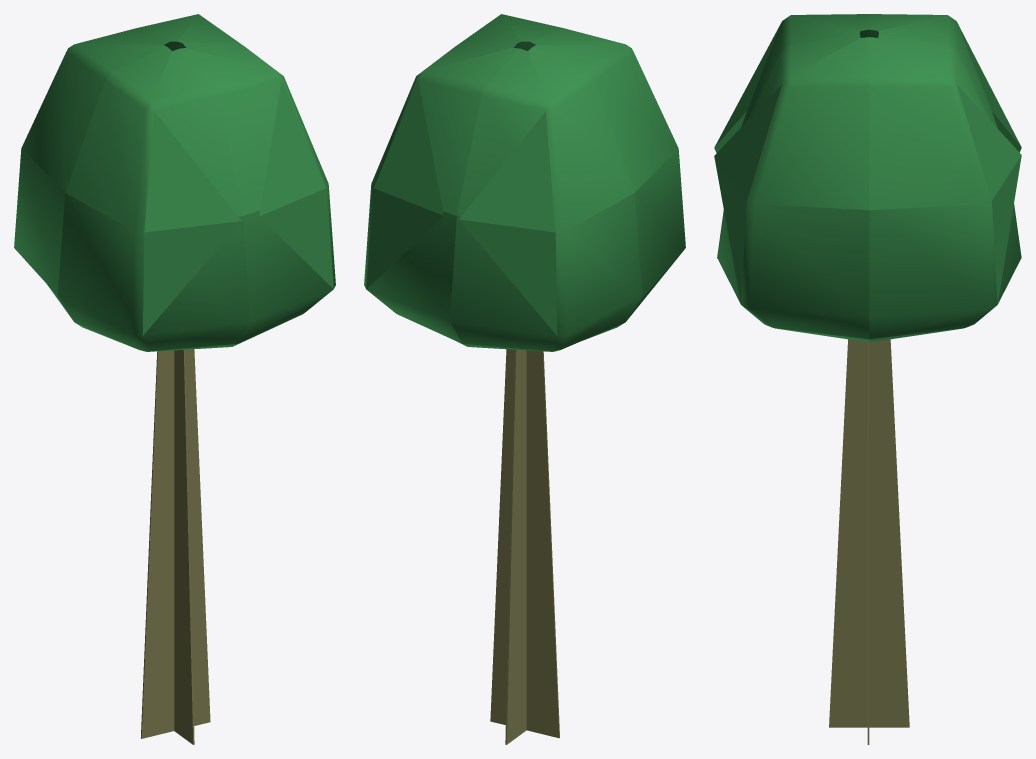
File: TreeSquare_Big.fbx
3 renders of one model, left to right at view 1: azimuth 30°, elevation 25°; view 2: azimuth 150°, elevation 25°; view 3: azimuth 270°, elevation 25°, orthographic.
Visible parts, largest first — view 1: TREE_BIG_SQUARE; view 2: TREE_BIG_SQUARE; view 3: TREE_BIG_SQUARE.
Part boxes in pixels (x1,y1,x2,y2): TREE_BIG_SQUARE: (14,14,335,744); TREE_BIG_SQUARE: (364,14,685,744); TREE_BIG_SQUARE: (714,14,1021,744).
Size of the model in its own units: 587 by 1638 by 657.
